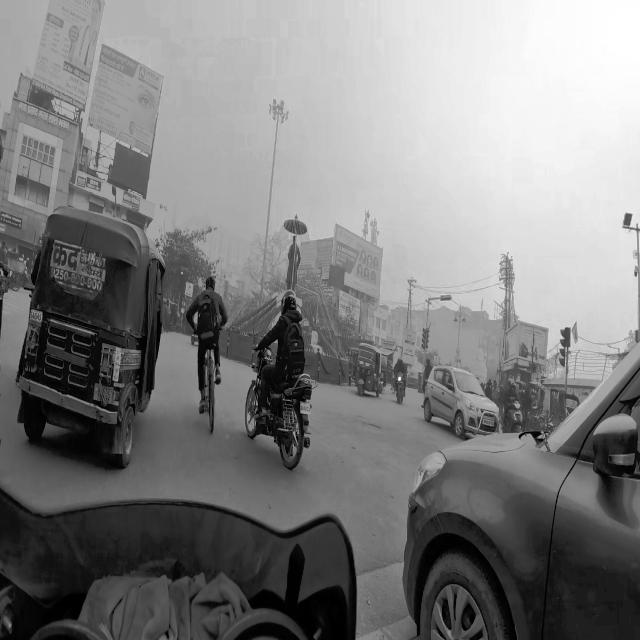Auto-Rickshaw: (12, 205, 174, 480), (355, 341, 383, 402)
Bike: (247, 288, 319, 486), (502, 381, 524, 433), (393, 357, 408, 404)
Car: (402, 337, 640, 640), (421, 366, 501, 426)
